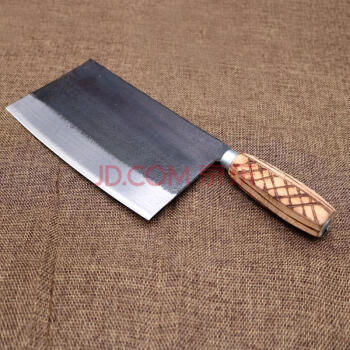knief: (14, 60, 335, 245)
